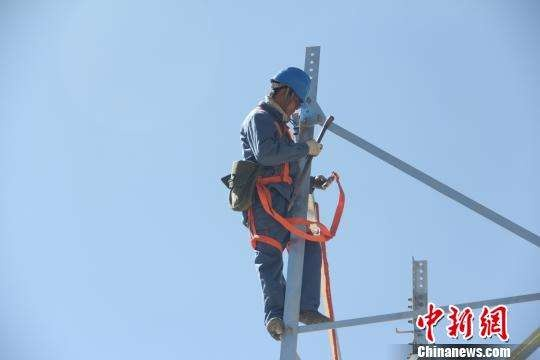blue: (267, 66, 312, 117)
